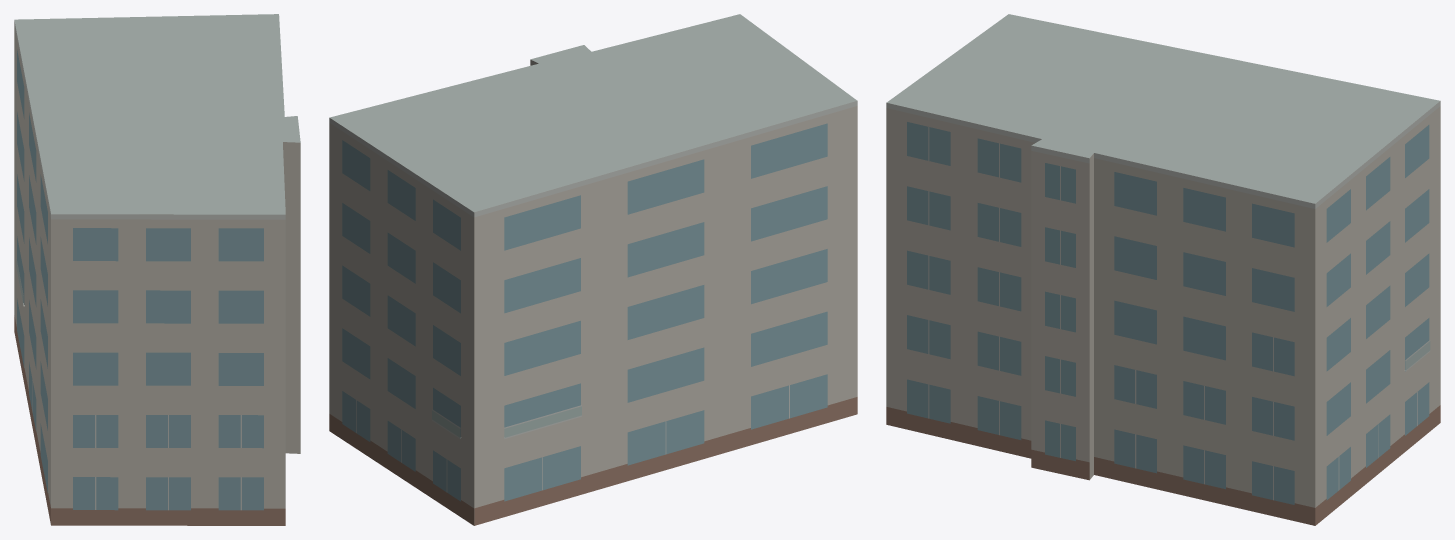
Rendered from survey-upis-32519099.glb.
The picture shows the model from 3 angles, left to right: view 1: azimuth 30°, elevation 25°; view 2: azimuth 150°, elevation 25°; view 3: azimuth 270°, elevation 25°; orthographic projection. The views are drawn at different scales.
Visible parts, largest first — view 1: survey-upis-32519099.tmp; view 2: survey-upis-32519099.tmp; view 3: survey-upis-32519099.tmp.
Part boxes in pixels (x1=…): survey-upis-32519099.tmp: x1=14, y1=14, x2=300, y2=525; survey-upis-32519099.tmp: x1=329, y1=14, x2=857, y2=525; survey-upis-32519099.tmp: x1=886, y1=14, x2=1440, y2=525.
Size of the model in its own units: 18.98 by 15 by 23.4.
